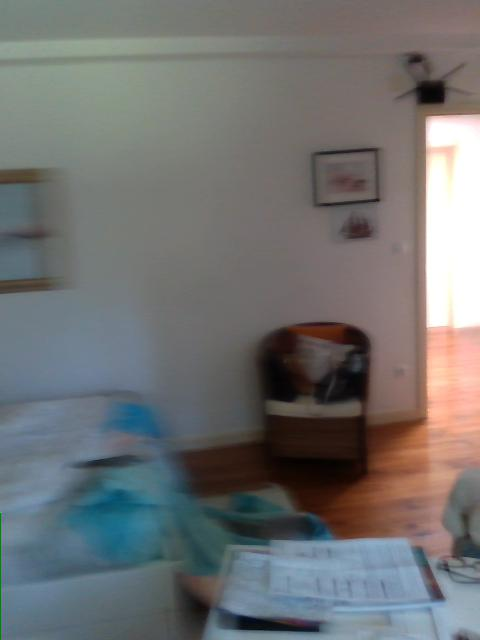open_door: (416, 103, 479, 422)
